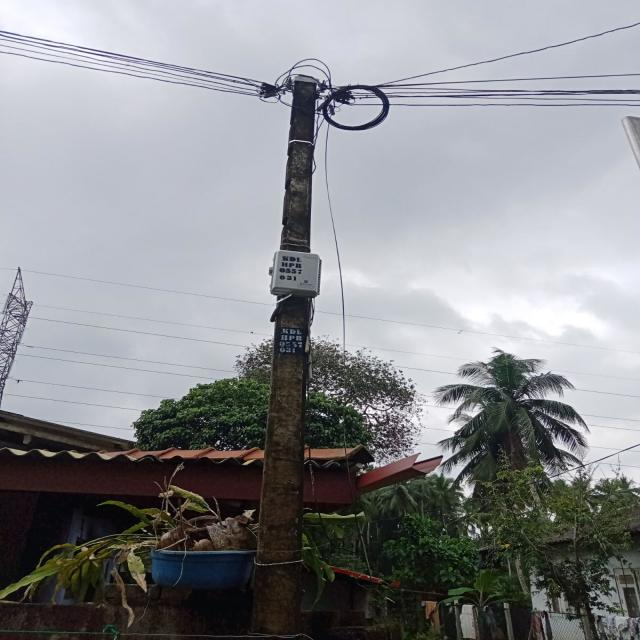light_pole: (245, 64, 328, 640)
